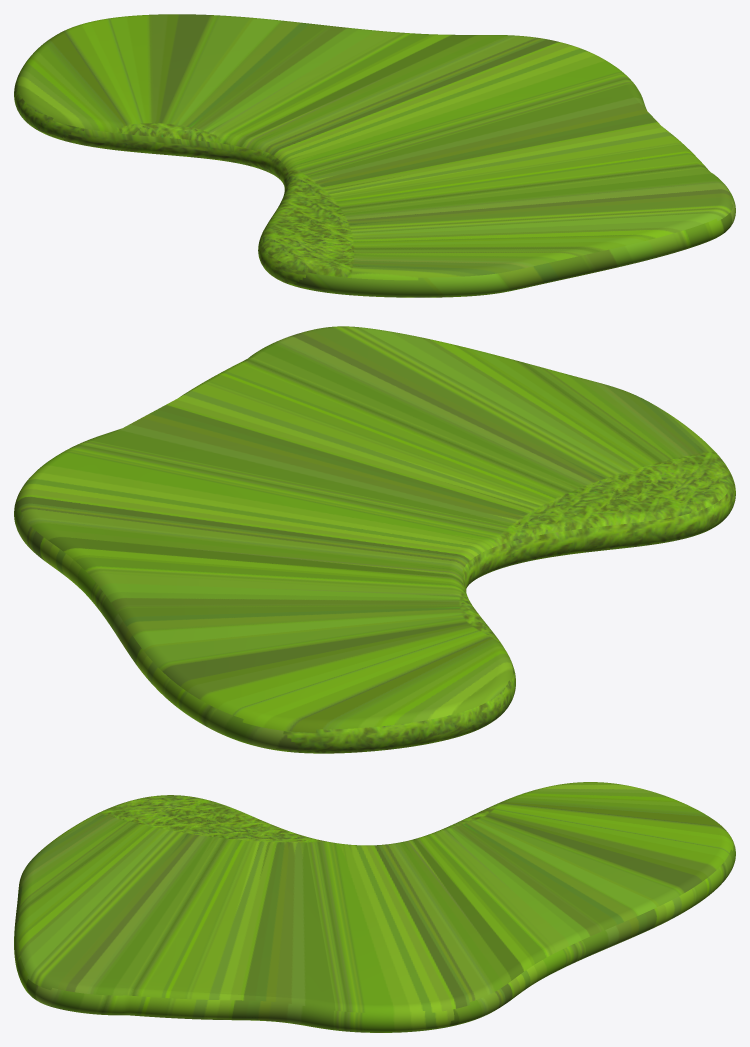
File: GrassBase2.fbx
The picture shows the model from 3 angles, top to bottom: view 1: azimuth 30°, elevation 25°; view 2: azimuth 150°, elevation 25°; view 3: azimuth 270°, elevation 25°; orthographic projection. The views are drawn at different scales.
Parts seen in each view (by area): view 1: IslandBase2; view 2: IslandBase2; view 3: IslandBase2.
Boxes of the visible parts, x1,y1,x2,y2 form: IslandBase2: (14, 14, 735, 297); IslandBase2: (14, 326, 735, 753); IslandBase2: (14, 782, 735, 1032).
Size of the model in its own units: 1631 by 87.07 by 2127.
